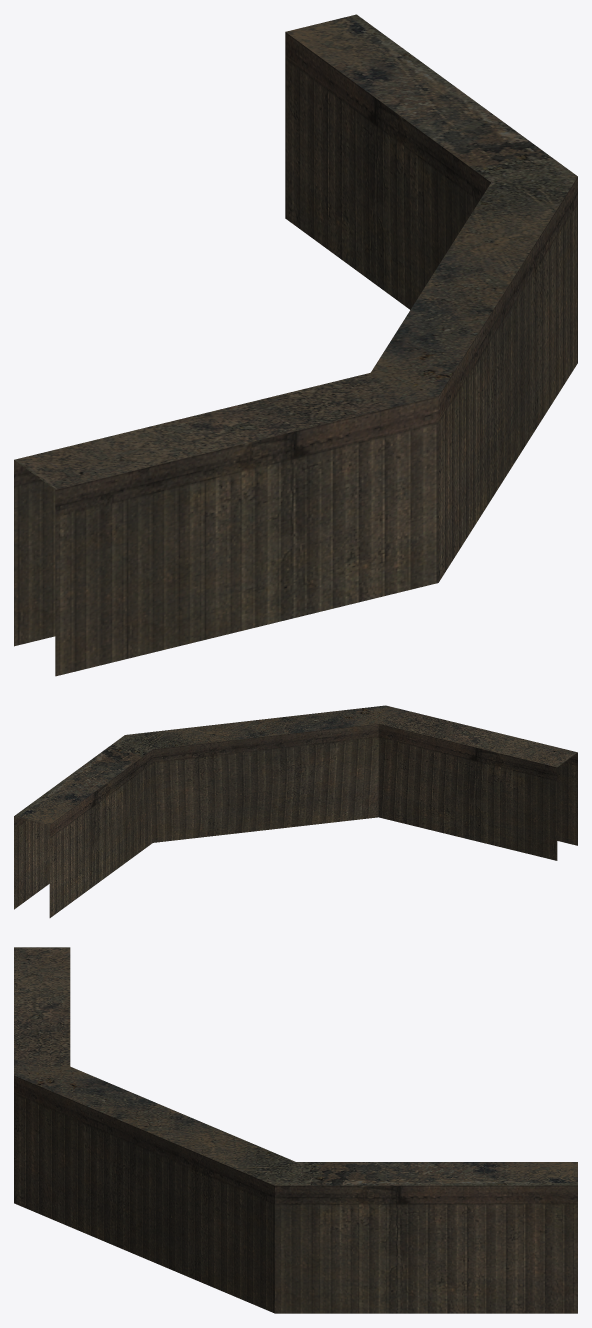
Rendered from wall_rx_1_m2a_1_1_3_height.obj.
The picture shows the model from 3 angles, top to bottom: view 1: azimuth 30°, elevation 25°; view 2: azimuth 150°, elevation 25°; view 3: azimuth 270°, elevation 25°; orthographic projection. The views are drawn at different scales.
Parts seen in each view (by area): view 1: wall_rx_1_m2a_1_1/3_height; view 2: wall_rx_1_m2a_1_1/3_height; view 3: wall_rx_1_m2a_1_1/3_height.
Part boxes in pixels (x1=…): wall_rx_1_m2a_1_1/3_height: x1=14, y1=14, x2=577, y2=676; wall_rx_1_m2a_1_1/3_height: x1=14, y1=705, x2=577, y2=917; wall_rx_1_m2a_1_1/3_height: x1=14, y1=947, x2=577, y2=1313.
Bounding box in the file's own units: 4 × 1 × 4.
